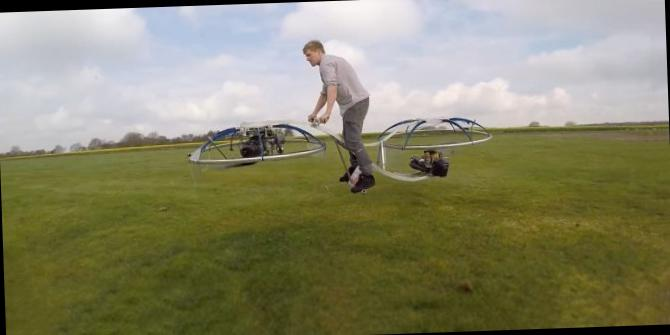drone: (192, 93, 499, 205)
